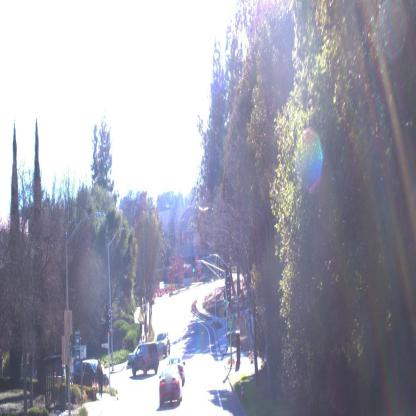car: (157, 357, 185, 409), (71, 348, 102, 390), (129, 341, 162, 375), (158, 321, 172, 361)
person: (96, 361, 106, 404)
traffic light: (220, 253, 233, 310)
